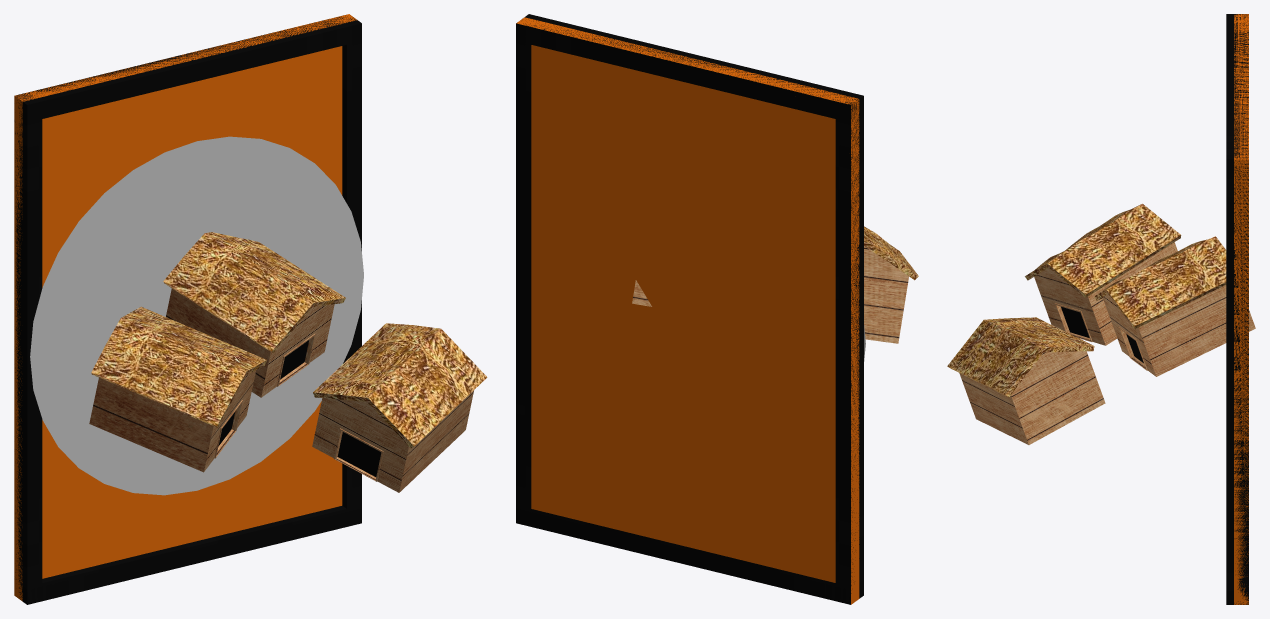
File: SettlementCard.fbx
The picture shows the model from 3 angles, left to right: view 1: azimuth 30°, elevation 25°; view 2: azimuth 150°, elevation 25°; view 3: azimuth 270°, elevation 25°; orthographic projection. The views are drawn at different scales.
Parts seen in each view (by area): view 1: Settlement card; view 2: Settlement card; view 3: Settlement card.
Part boxes in pixels (left/top/right/bottom): Settlement card: left=14, top=14, right=487, bottom=604; Settlement card: left=516, top=14, right=918, bottom=604; Settlement card: left=947, top=14, right=1255, bottom=604.
Size of the model in its own units: 11.53 by 16.37 by 10.29.
